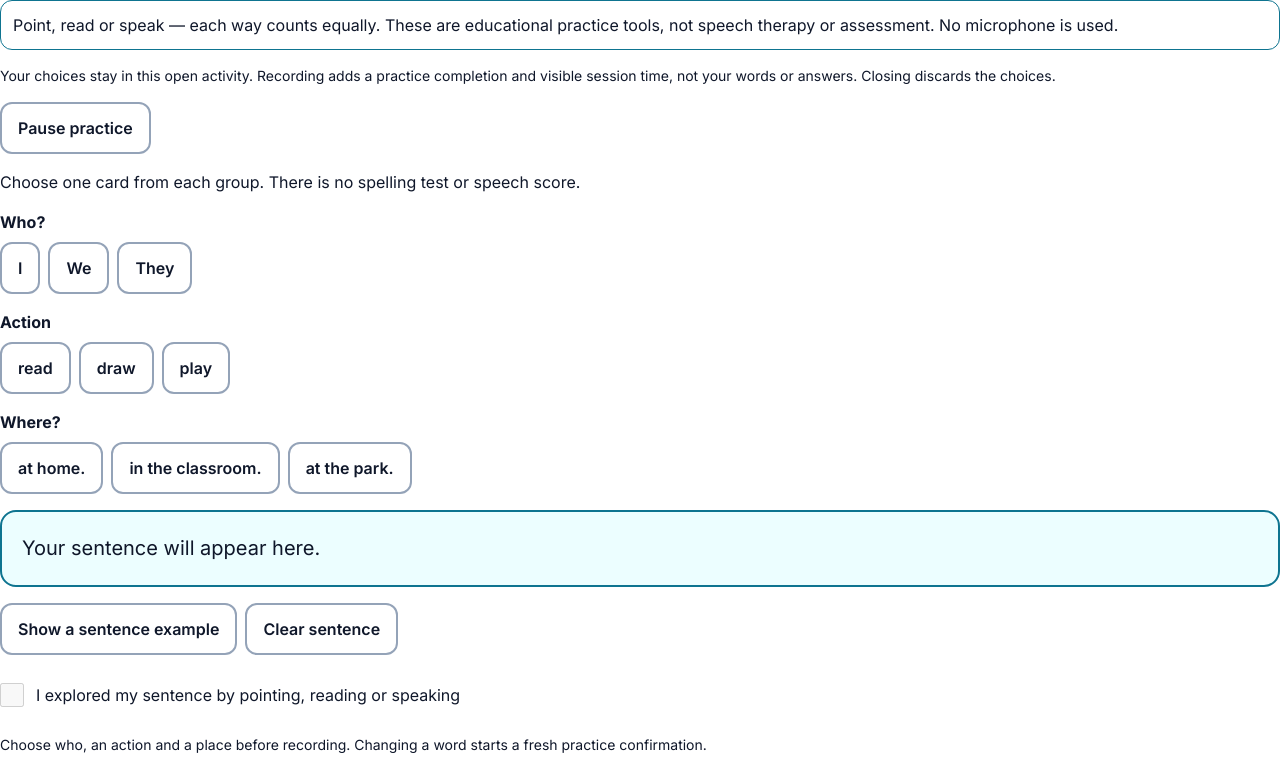
Test: Sentence Builder › invalidates the confirmation after a changed choice
Click the button "I" at (20, 268), box left=0, top=242, right=40, bottom=294
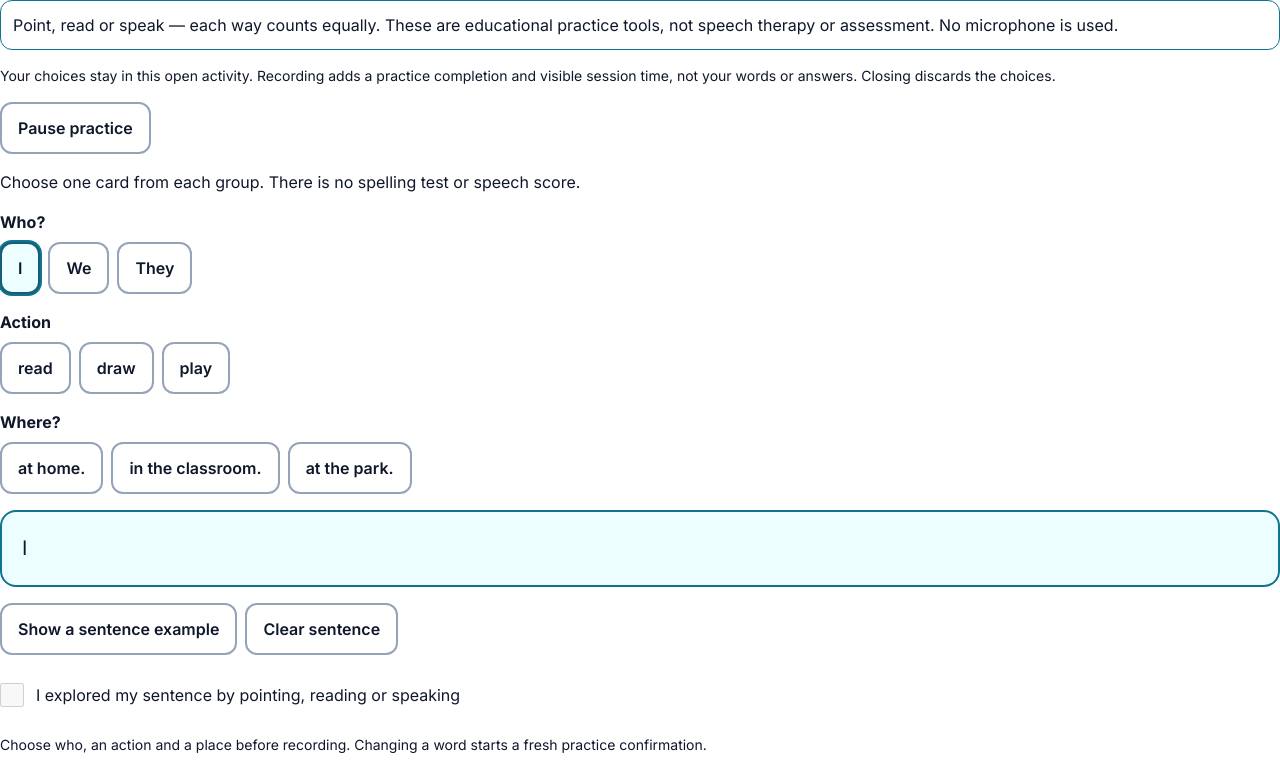
Click the button "read" at (35, 368), box left=0, top=342, right=71, bottom=394
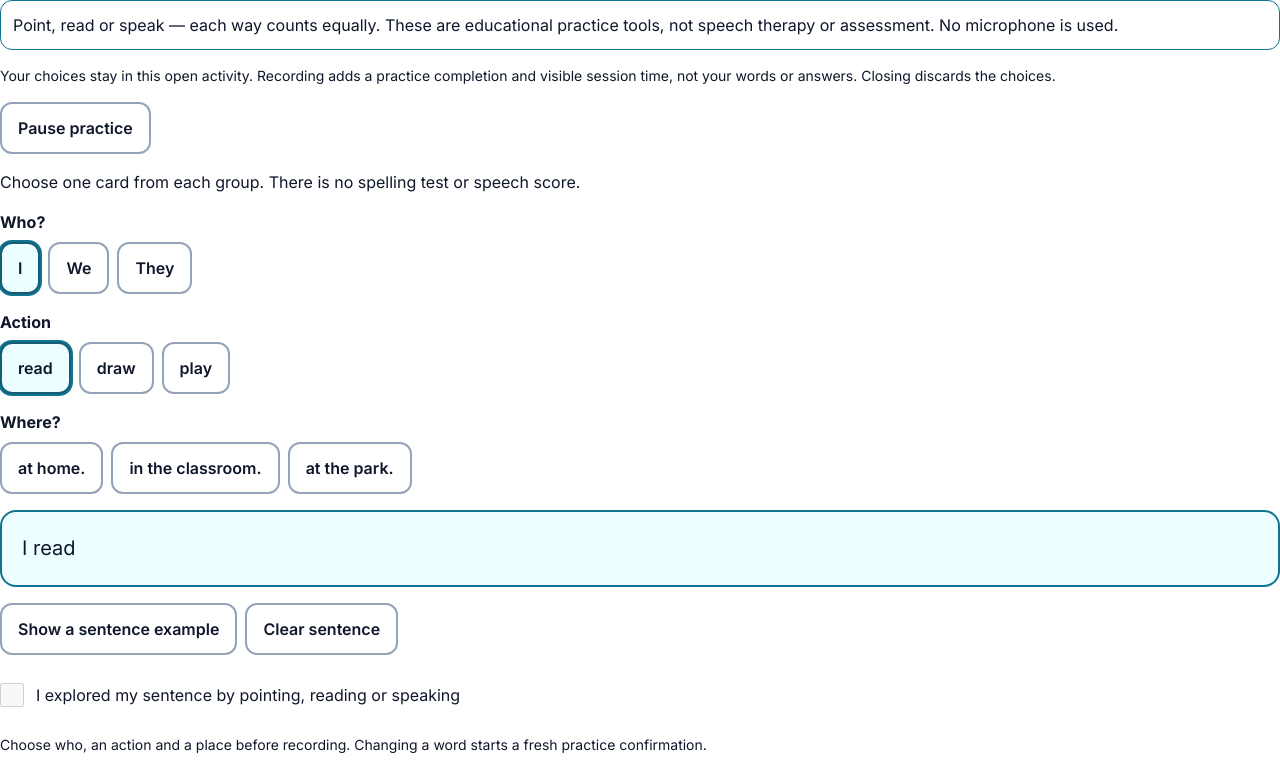
Click the button "at home." at (52, 468), box left=0, top=442, right=103, bottom=494
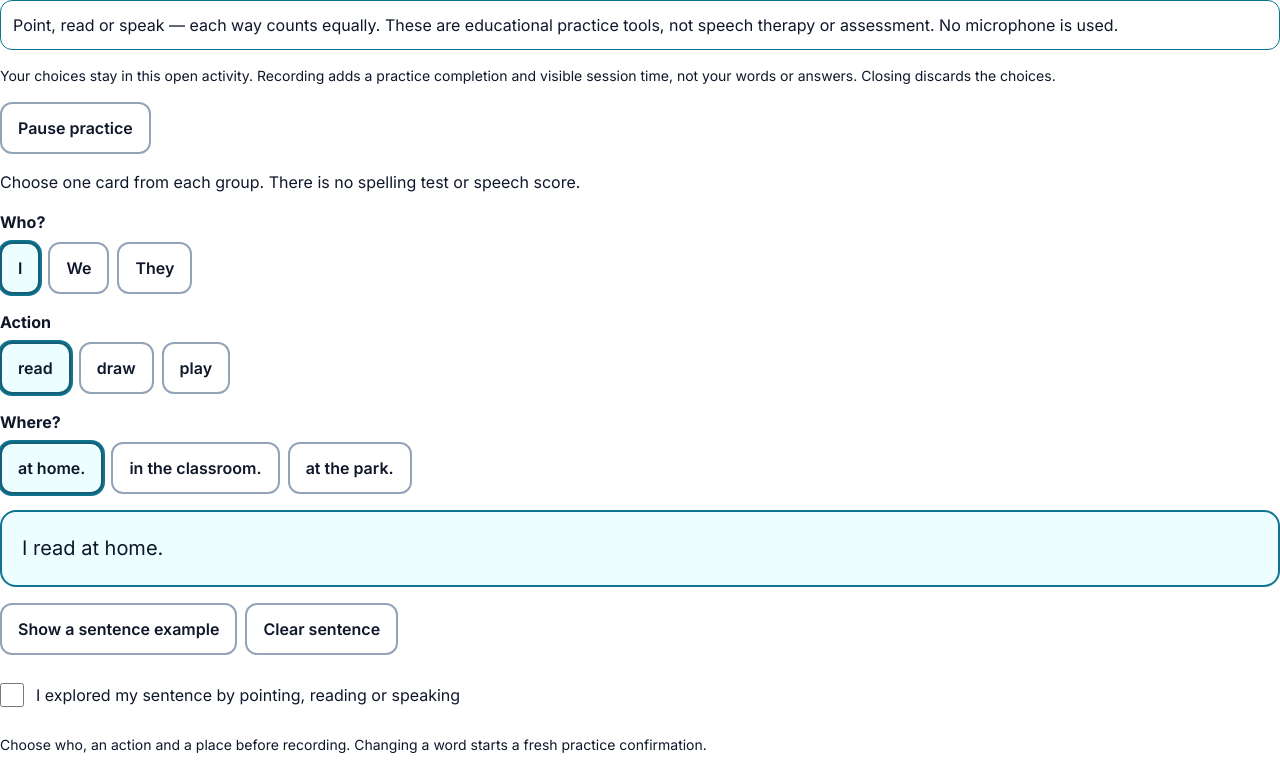
Click the checkbox at (12, 694), box left=0, top=682, right=24, bottom=706
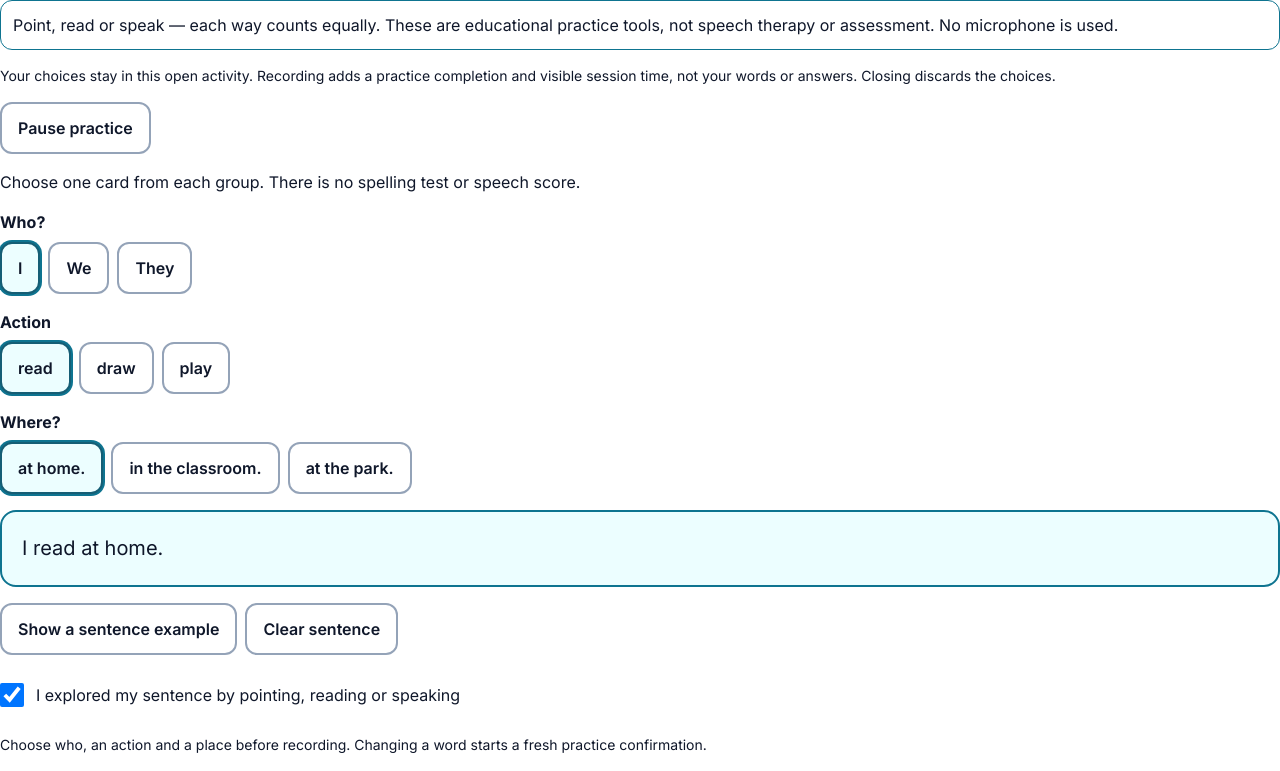
Click the button "We" at (79, 268), box left=48, top=242, right=109, bottom=294
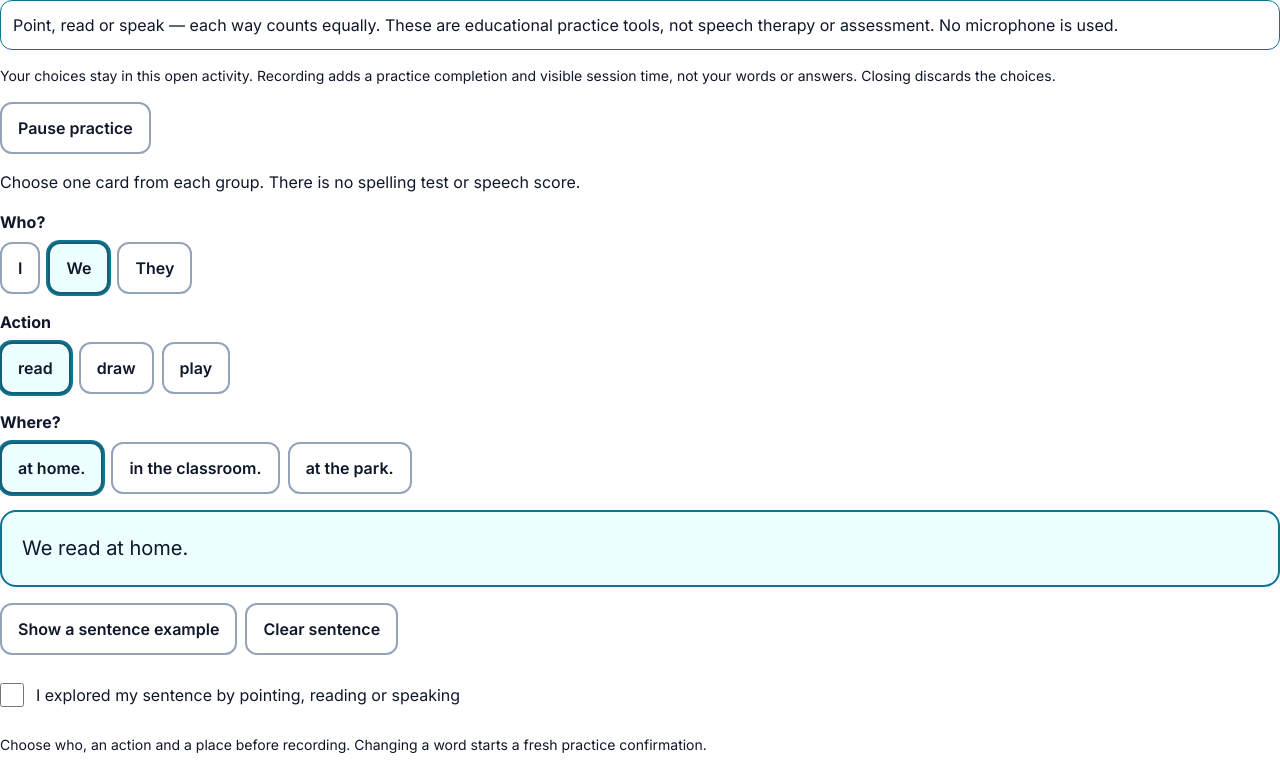
Check: the checkbox is not checked, box left=0, top=682, right=24, bottom=706
Check: the text named "My sentence" reads "We read at home.", box left=22, top=536, right=188, bottom=560
